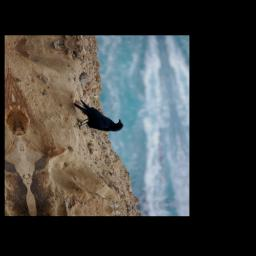Crow: (71, 96, 126, 135)
